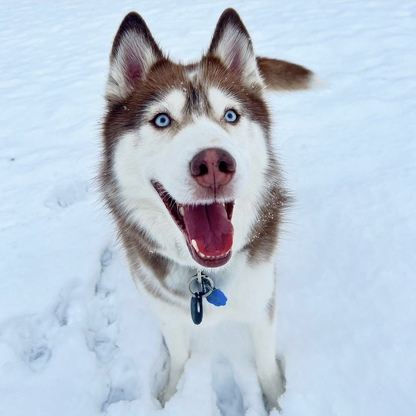husky: (92, 3, 339, 416)
